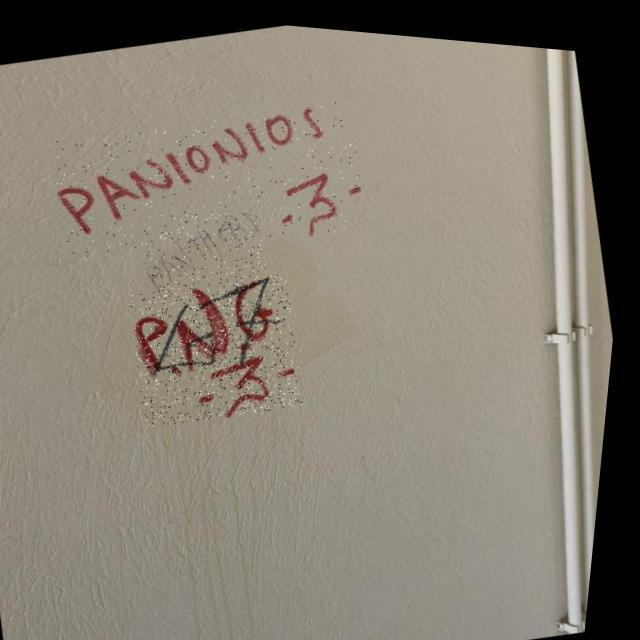-: (42, 72, 380, 289), (124, 256, 320, 434), (145, 260, 300, 380), (141, 195, 277, 299)
